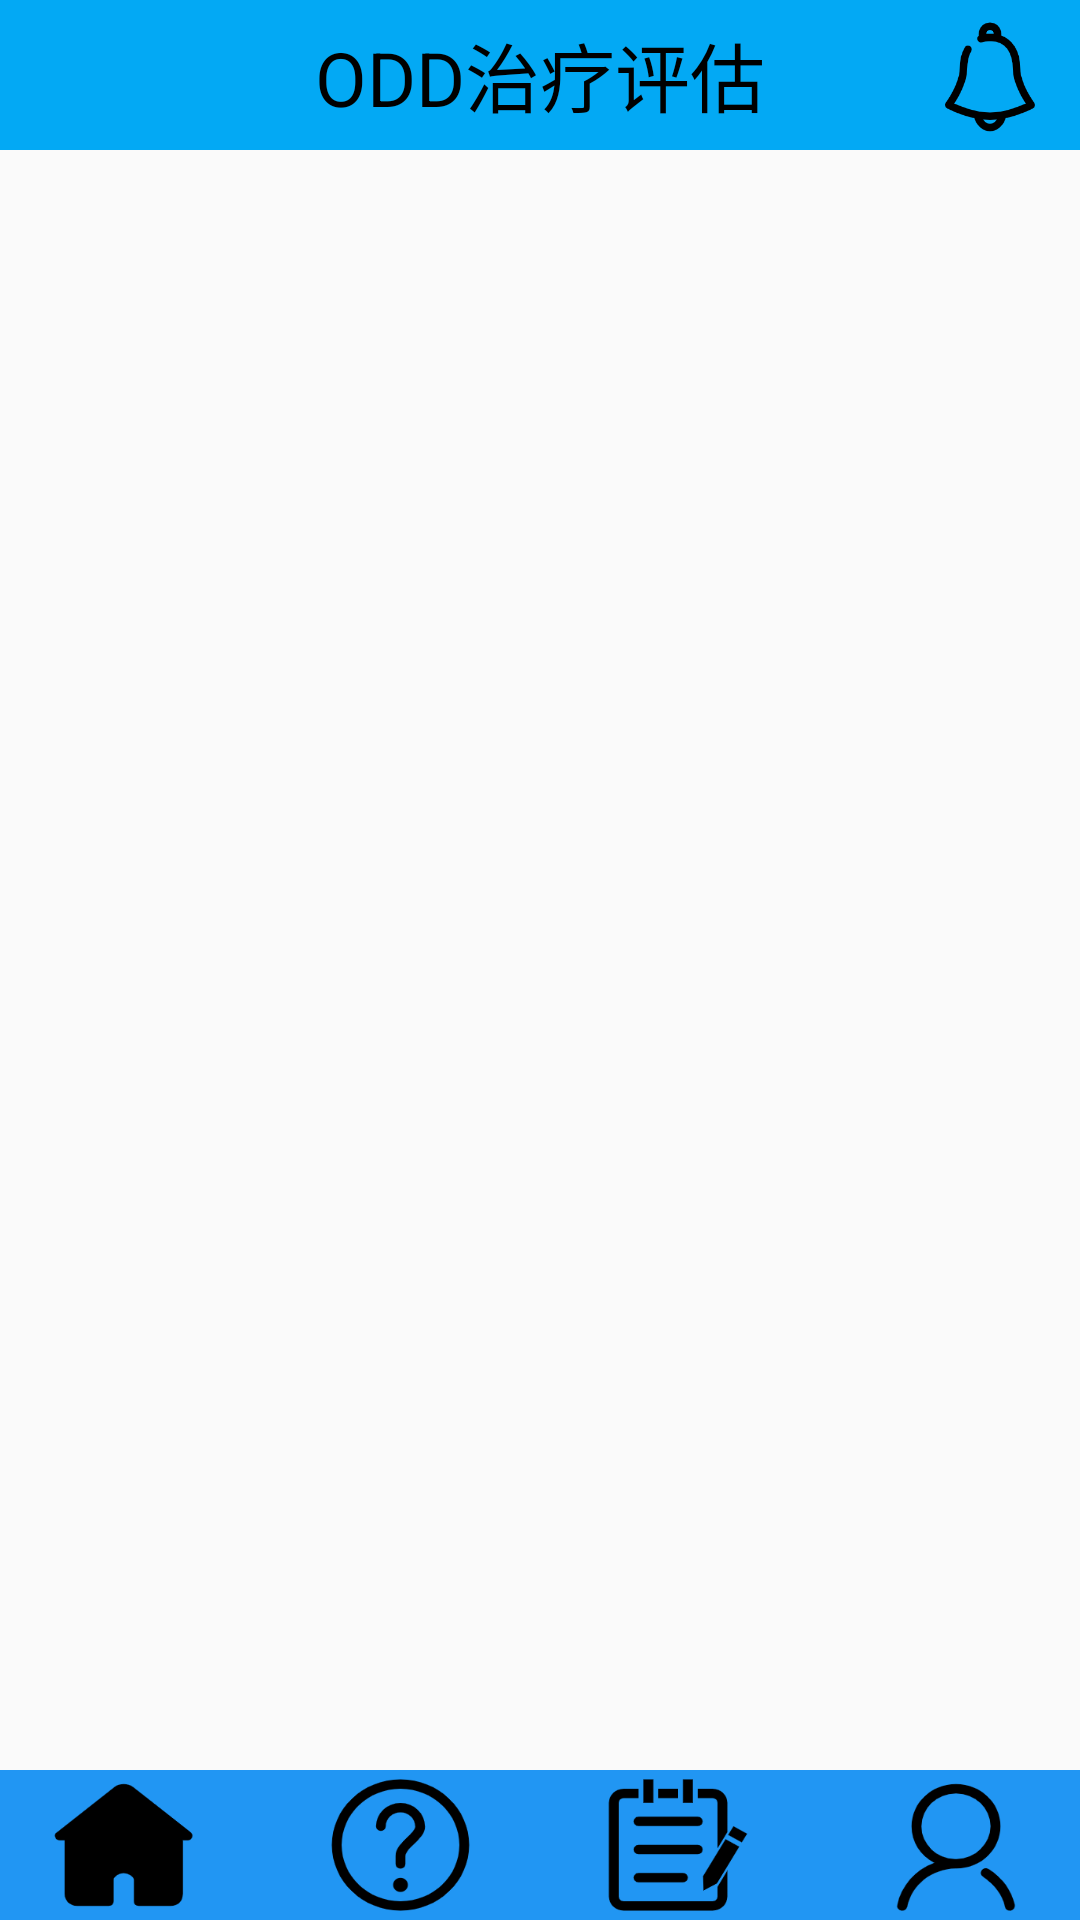

Screen size 1080px×1920px. Icon name, then its box in pixels as region(x1, y1, x2, y2):
home: region(54, 1783, 193, 1907)
log: region(608, 1779, 747, 1911)
notice: region(945, 22, 1035, 132)
people: region(897, 1783, 1015, 1911)
question: region(331, 1779, 470, 1911)
